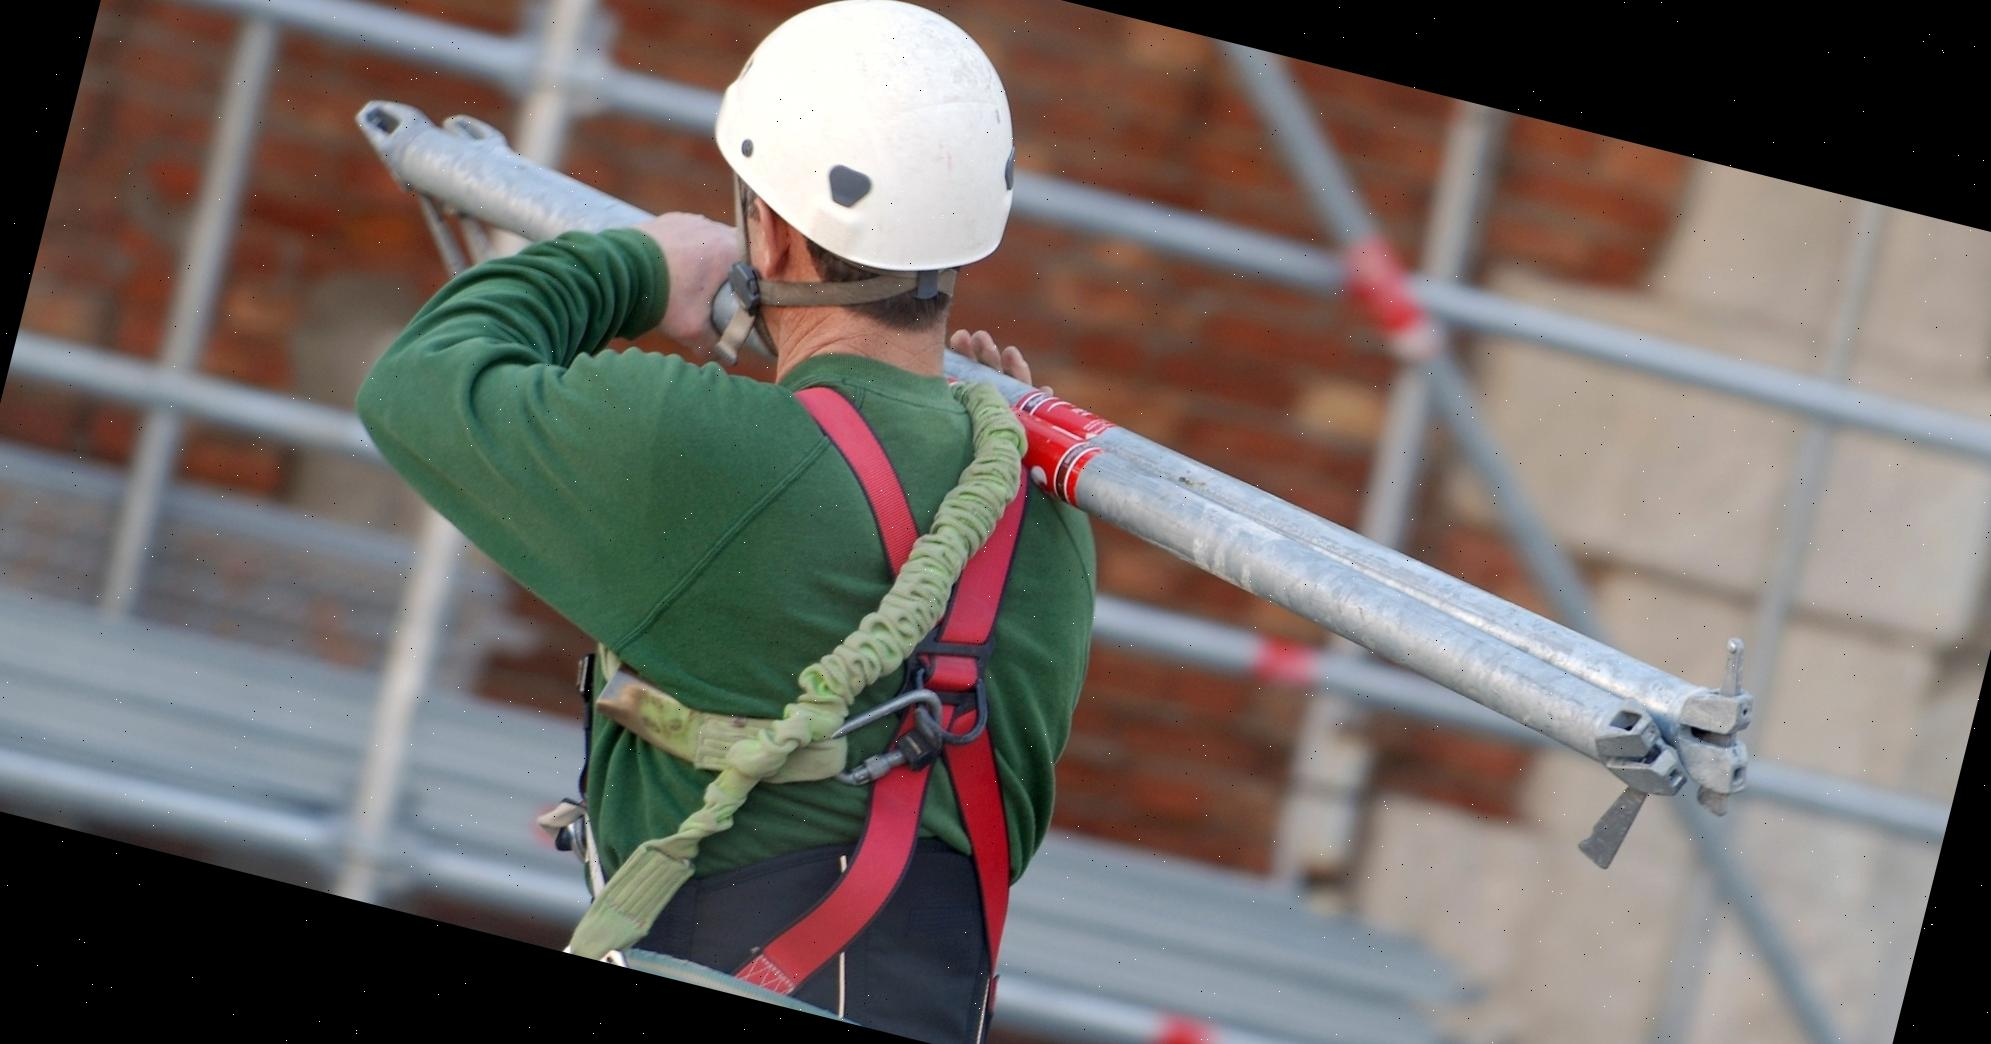helmet: (682, 0, 1053, 308)
no_wear: (537, 330, 1150, 1044)
